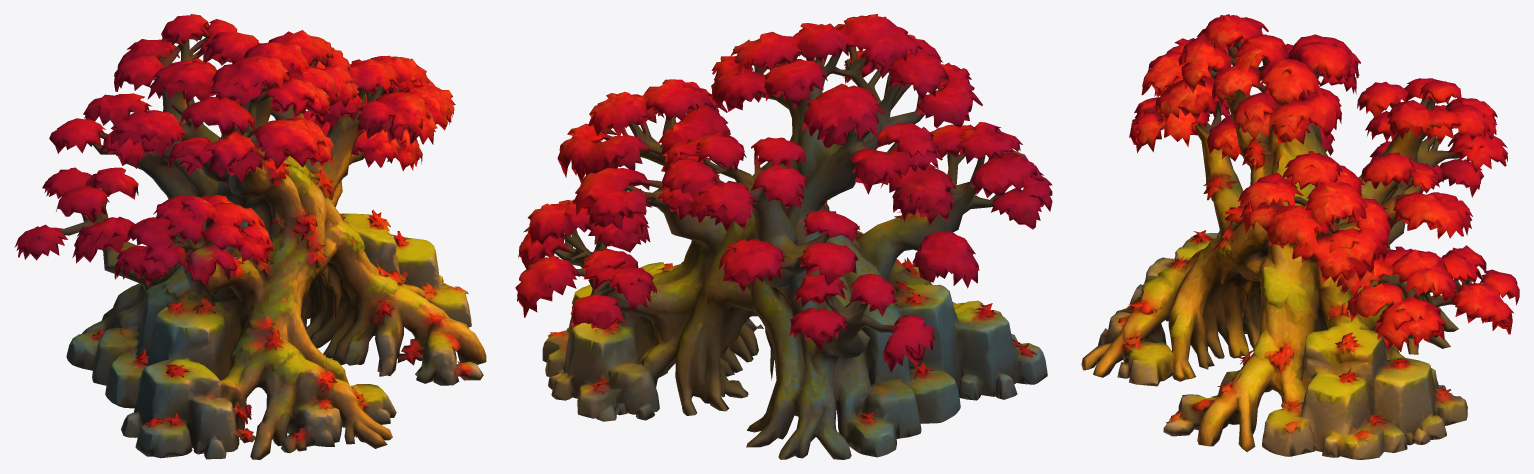
File: stylized tree 3d model.glb
3 renders of one model, left to right at view 1: azimuth 30°, elevation 25°; view 2: azimuth 150°, elevation 25°; view 3: azimuth 270°, elevation 25°, orthographic. The views are drawn at different scales.
Parts seen in each view (by area): view 1: tripo_node_f5d4696d-a633-4f28-8361-61014fef7288; view 2: tripo_node_f5d4696d-a633-4f28-8361-61014fef7288; view 3: tripo_node_f5d4696d-a633-4f28-8361-61014fef7288.
Boxes of the visible parts, box(x1,y1,x2,y2) form: tripo_node_f5d4696d-a633-4f28-8361-61014fef7288: box(14, 14, 486, 459); tripo_node_f5d4696d-a633-4f28-8361-61014fef7288: box(515, 14, 1052, 459); tripo_node_f5d4696d-a633-4f28-8361-61014fef7288: box(1081, 14, 1519, 459).
Bounding box in the file's own units: 1 × 0.8145 × 0.9776.
1 material, 1 textured.
